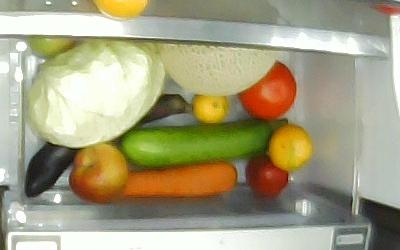cabbage: (29, 39, 166, 148)
carrot: (128, 162, 237, 200)
eggplant: (24, 94, 192, 199)
melon: (154, 40, 280, 95)
prune: (68, 143, 127, 201), (244, 153, 287, 196)
tangerine: (267, 125, 312, 171), (192, 91, 230, 122)
tomato: (235, 61, 296, 121), (25, 38, 76, 60)
zucchini: (119, 117, 291, 166)
